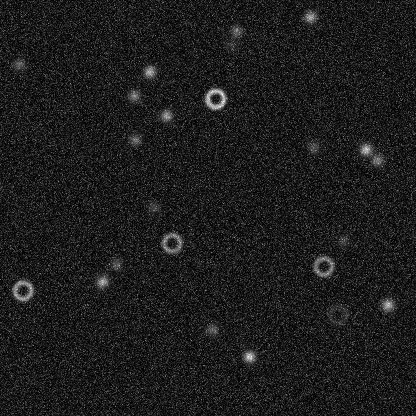Ring: (325, 302, 349, 326), (311, 254, 335, 278), (10, 278, 34, 302), (203, 86, 227, 110), (159, 230, 183, 254)
Spot: (335, 232, 351, 248), (108, 255, 124, 271), (204, 321, 220, 337), (94, 273, 110, 289), (158, 107, 174, 123), (357, 141, 373, 157), (11, 56, 27, 72), (126, 131, 142, 147), (379, 296, 395, 312), (228, 22, 244, 38), (223, 36, 239, 52), (125, 87, 141, 103), (369, 152, 385, 168), (305, 139, 321, 155), (141, 63, 157, 79), (302, 8, 318, 24), (145, 199, 161, 215), (241, 348, 257, 364)
